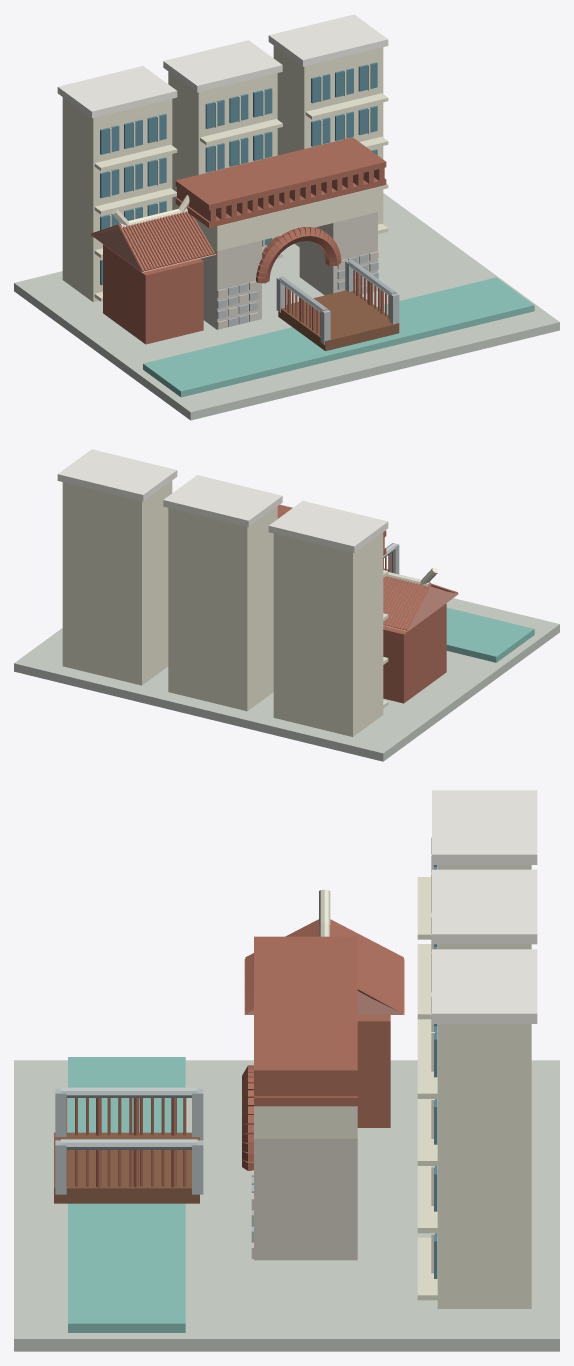
Rendered from dot-X3.glb.
3 renders of one model, top to bottom at view 1: azimuth 30°, elevation 25°; view 2: azimuth 150°, elevation 25°; view 3: azimuth 270°, elevation 25°, orthographic. The views are drawn at different scales.
Parts seen in each view (by area): view 1: pave; view 2: pave; view 3: pave.
Part boxes in pixels (box(x1,y1,x2,y2)): pave: box(14, 14, 559, 420); pave: box(14, 449, 559, 761); pave: box(14, 790, 559, 1351).
Bounding box in the file's own units: 6.08 × 3.16 × 5.04.
1 material, 1 textured.
